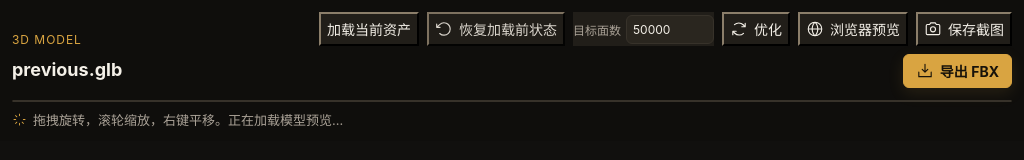
Test: ModelViewport › keeps the recovered model until current asset is explicitly loaded and can restore it
The width and height of the screenshot is (1024, 160).
Check: the heading "previous.glb" is shown, box [12, 59, 122, 80]
Click the button "加载当前资产".
click(369, 29)  # box [319, 12, 419, 46]
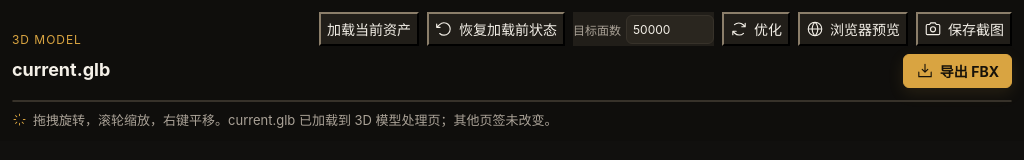
Check: the heading "current.glb" is shown, box [12, 59, 110, 80]
Click the button "恢复加载前状态".
click(496, 29)  # box [427, 12, 565, 46]
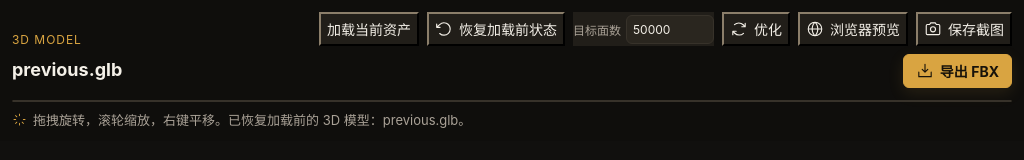
Check: the heading "previous.glb" is shown, box [12, 59, 122, 80]
